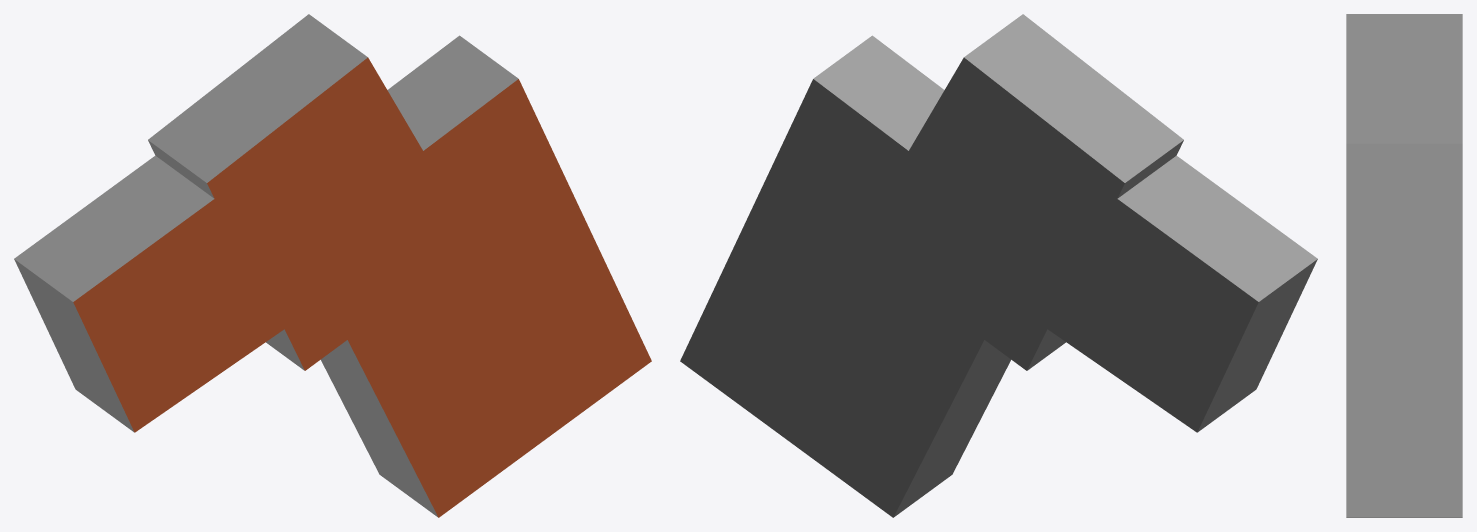
File: construction_5464_assumed_A_Casa_h6m.obj
3 renders of one model, left to right at view 1: azimuth 30°, elevation 25°; view 2: azimuth 150°, elevation 25°; view 3: azimuth 270°, elevation 25°, orthographic.
Parts seen in each view (by area): view 1: construction_5464_assumed_A_Casa; view 2: construction_5464_assumed_A_Casa; view 3: construction_5464_assumed_A_Casa.
Part boxes in pixels (x1,y1,x2,y2): construction_5464_assumed_A_Casa: (14,14,651,517); construction_5464_assumed_A_Casa: (680,14,1317,517); construction_5464_assumed_A_Casa: (1346,14,1462,517).
Bounding box in the file's own units: 33.87 × 26.72 × 6.
